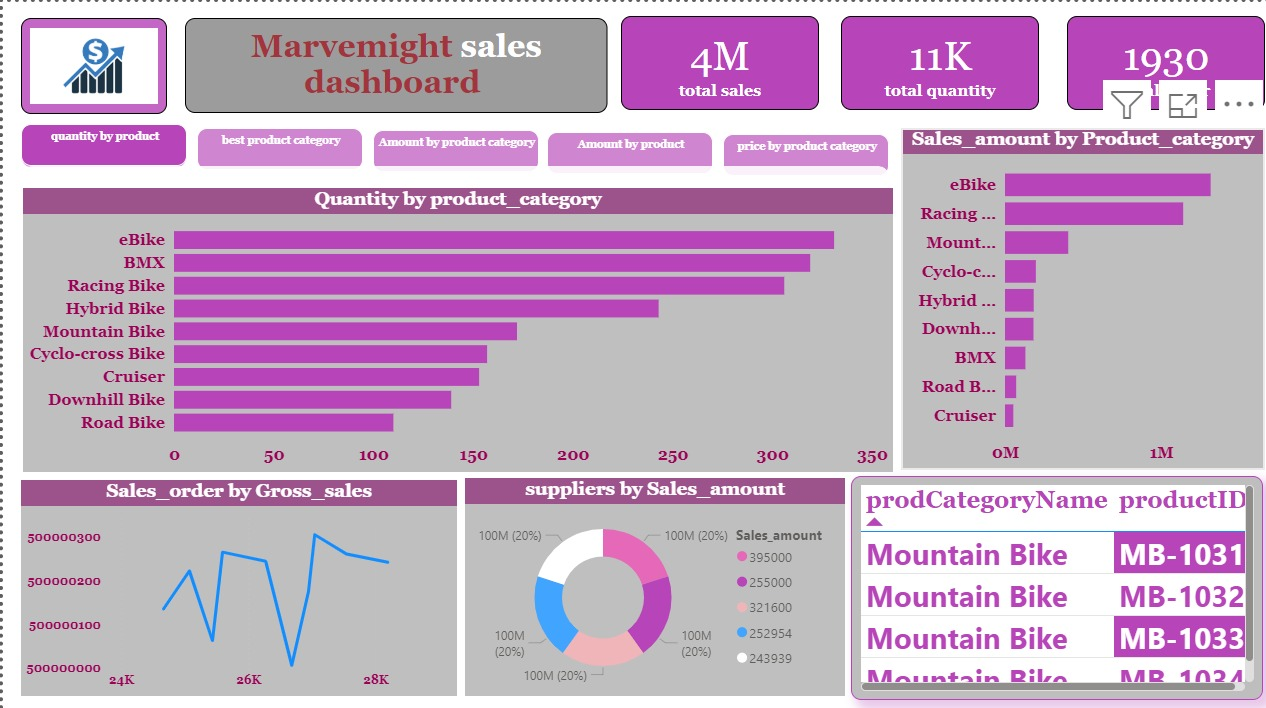

Layout of this report page (visuals, bound fields, positions):
{"tool":"powerbi","page":{"name":"product report","canvas":[1280,720],"ordinal":0},"visuals":[{"type":"group","id":"g1","title":"header","box":[18.5,14,1243.5,684],"z":0},{"type":"barChart","fields":{"Y":["Sum(Query2.price)"],"Category":["Query2.product_category"]},"box":[28,178,860,286],"z":0,"group":"g4"},{"type":"tableEx","fields":{"Values":["Query3.prodCategoryName","Query3.productID"]},"box":[848.5,474,412,224],"z":0,"group":"g1"},{"type":"actionButton","title":"price by product category","box":[720,130,166,42],"z":500,"group":"g3"},{"type":"textbox","box":[182.5,15,422.5,95],"z":1000,"group":"g1"},{"type":"group","id":"g2","title":"inactive btn","box":[18,124,868,50],"z":1000},{"type":"card","fields":{"Values":["final_project sales_order.total sales"]},"box":[618,14,198,94],"z":2000,"group":"g1"},{"type":"shape","box":[18,164,868,278],"z":2000},{"type":"actionButton","title":"price by product category","box":[720,132,166,42],"z":2500,"group":"g2"},{"type":"card","fields":{"Values":["final_project sales_order.total quantity"]},"box":[838,14,198,94],"z":3000,"group":"g1"},{"type":"group","id":"g3","title":"active btn","box":[18,122,868,50],"z":3000},{"type":"actionButton","title":"Amount by product","box":[544.5,130,166,42],"z":3000,"group":"g2"},{"type":"card","fields":{"Values":["final_project sales_order.total order"]},"box":[1064,14,198,94],"z":4000,"group":"g1"},{"type":"group","id":"g4","title":"chart","box":[20,178,870,296],"z":4000},{"type":"actionButton","title":"Amount by product category","box":[369,128,166,42],"z":4125,"group":"g2"},{"type":"actionButton","title":"best product category","box":[193.5,126,166,42],"z":4250,"group":"g2"},{"type":"actionButton","title":"quantity by product","box":[18,124,166,42],"z":4500,"group":"g2"},{"type":"image","box":[18.5,16,146,96],"z":5000,"group":"g1"},{"type":"barChart","fields":{"Category":["Query4.Product_category"],"Y":["Sum(Query4.Sales_amount)"]},"box":[898,126,364,342],"z":5000},{"type":"donutChart","fields":{"Category":["Query5.Sales_amount"],"Y":["Sum(Query5.suppliers)"]},"box":[462,476,380,218],"z":5001},{"type":"lineChart","fields":{"Category":["Query6.Gross_sales"],"Y":["Sum(Query6.Sales_order)"]},"box":[18,478,436,216],"z":5002}]}

Visuals, with their boxes in screenshot pixels (x1, y1, x2, y2), scaled from the page's 1280x720 canvas onto the 1266x708 screenshot:
"header" group: pyautogui.locateOnScreen(18, 14, 1248, 686)
barChart - Sum(Query2.price) x Query2.product_category: pyautogui.locateOnScreen(28, 175, 878, 456)
tableEx - Query3.prodCategoryName x Query3.productID: pyautogui.locateOnScreen(839, 466, 1247, 686)
"price by product category" actionButton: pyautogui.locateOnScreen(712, 128, 876, 169)
textbox: pyautogui.locateOnScreen(181, 15, 598, 108)
"inactive btn" group: pyautogui.locateOnScreen(18, 122, 876, 171)
card - final_project sales_order.total sales: pyautogui.locateOnScreen(611, 14, 807, 106)
shape: pyautogui.locateOnScreen(18, 161, 876, 435)
"price by product category" actionButton: pyautogui.locateOnScreen(712, 130, 876, 171)
card - final_project sales_order.total quantity: pyautogui.locateOnScreen(829, 14, 1025, 106)
"active btn" group: pyautogui.locateOnScreen(18, 120, 876, 169)
"Amount by product" actionButton: pyautogui.locateOnScreen(539, 128, 703, 169)
card - final_project sales_order.total order: pyautogui.locateOnScreen(1052, 14, 1248, 106)
"chart" group: pyautogui.locateOnScreen(20, 175, 880, 466)
"Amount by product category" actionButton: pyautogui.locateOnScreen(365, 126, 529, 167)
"best product category" actionButton: pyautogui.locateOnScreen(191, 124, 356, 165)
"quantity by product" actionButton: pyautogui.locateOnScreen(18, 122, 182, 163)
image: pyautogui.locateOnScreen(18, 16, 163, 110)
barChart - Query4.Product_category x Sum(Query4.Sales_amount): pyautogui.locateOnScreen(888, 124, 1248, 460)
donutChart - Query5.Sales_amount x Sum(Query5.suppliers): pyautogui.locateOnScreen(457, 468, 833, 682)
lineChart - Query6.Gross_sales x Sum(Query6.Sales_order): pyautogui.locateOnScreen(18, 470, 449, 682)
